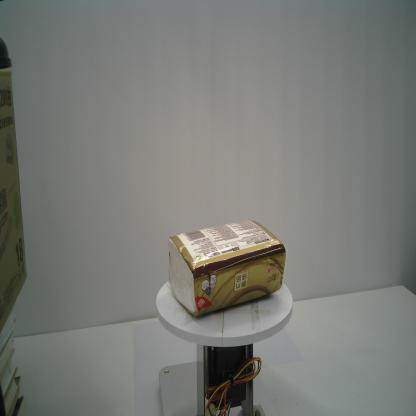Tissue: (167, 220, 286, 317)
